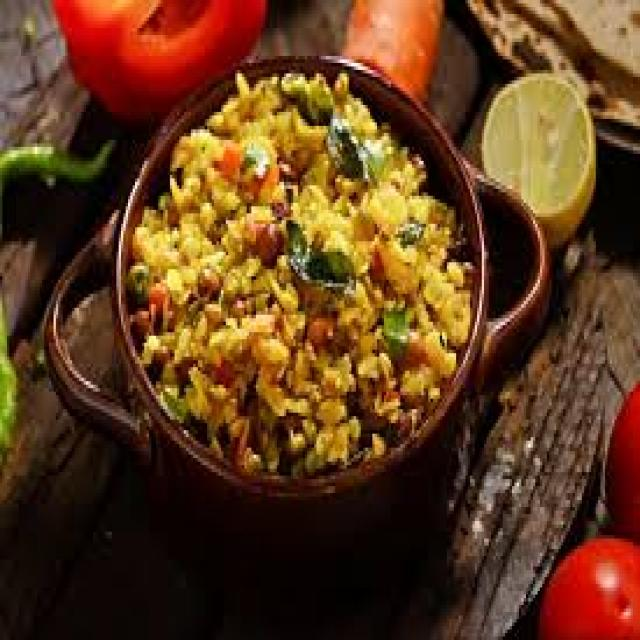POHA: (126, 73, 468, 476)
